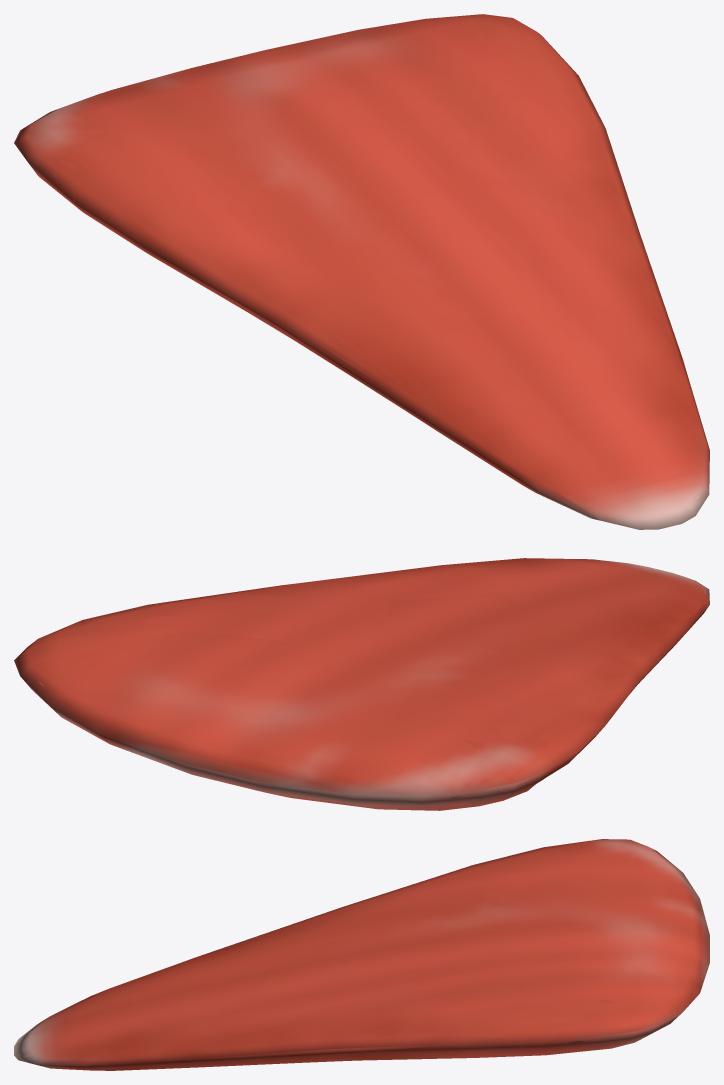
Rendered from mylohyoideus.fbx.
The picture shows the model from 3 angles, top to bottom: view 1: azimuth 30°, elevation 25°; view 2: azimuth 150°, elevation 25°; view 3: azimuth 270°, elevation 25°; orthographic projection. The views are drawn at different scales.
Parts seen in each view (by area): view 1: mylohyoideus, mylohyoideus low, mylohyoideus high; view 2: mylohyoideus, mylohyoideus low, mylohyoideus high; view 3: mylohyoideus, mylohyoideus low, mylohyoideus high.
Part boxes in pixels (bbox=[...]): mylohyoideus: bbox=[14, 14, 709, 529]; mylohyoideus low: bbox=[16, 14, 687, 520]; mylohyoideus high: bbox=[26, 32, 699, 520]; mylohyoideus: bbox=[14, 558, 709, 810]; mylohyoideus low: bbox=[20, 559, 709, 810]; mylohyoideus high: bbox=[23, 561, 697, 806]; mylohyoideus: bbox=[14, 839, 709, 1070]; mylohyoideus low: bbox=[34, 840, 699, 1068]; mylohyoideus high: bbox=[33, 842, 666, 1069].
Bounding box in the file's own units: 6.12 × 1.89 × 9.32.
Materials: 1 (1 with a texture image).
